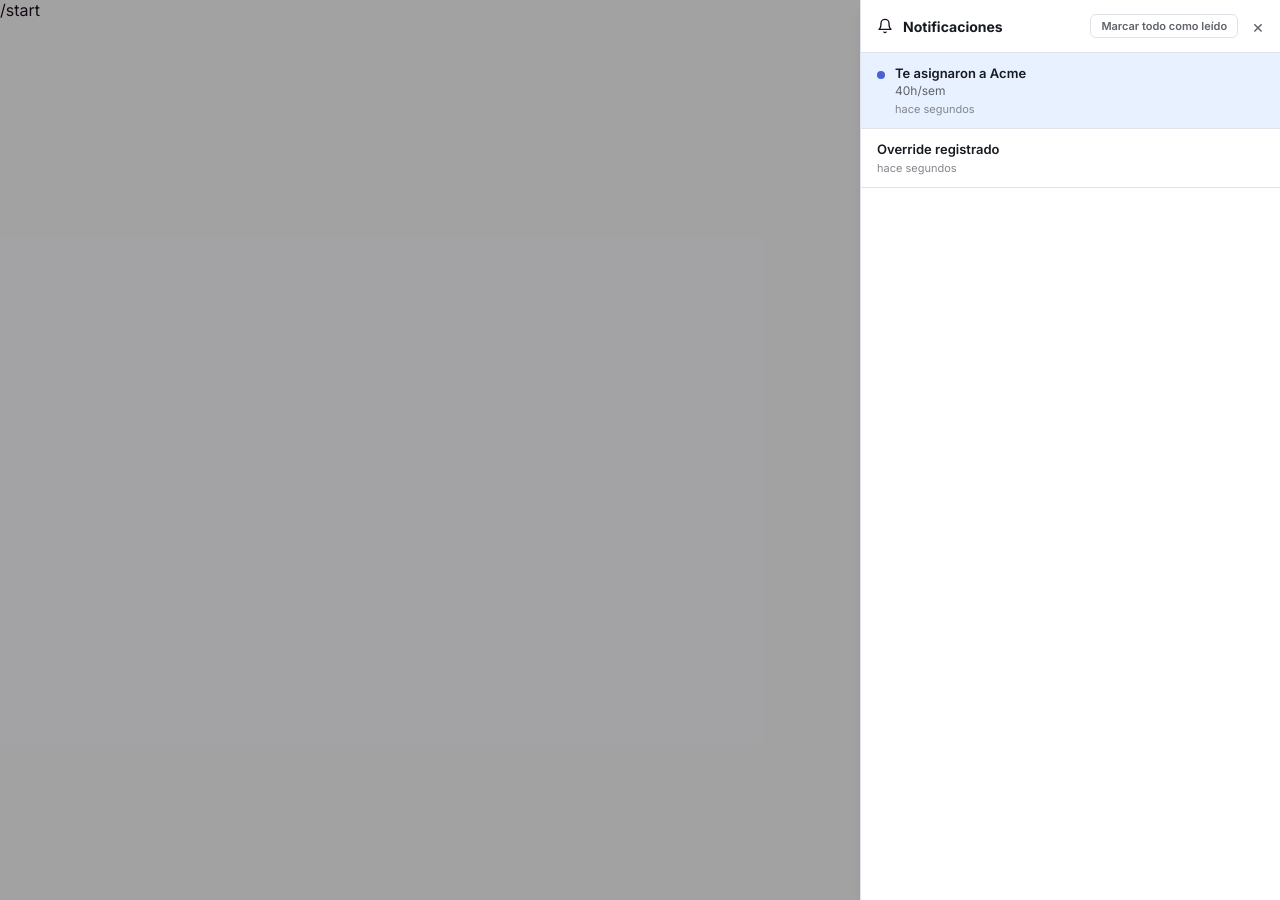
Test: NotificationsDrawer › mark-all-as-read posts bulk endpoint and zeroes unread count
The image size is (1280, 900).
What coordinates should you click on to do the following:
click the button with test id "notif-mark-all"
I would click on:
 (1164, 26)
Its box is [1090,14,1238,38].
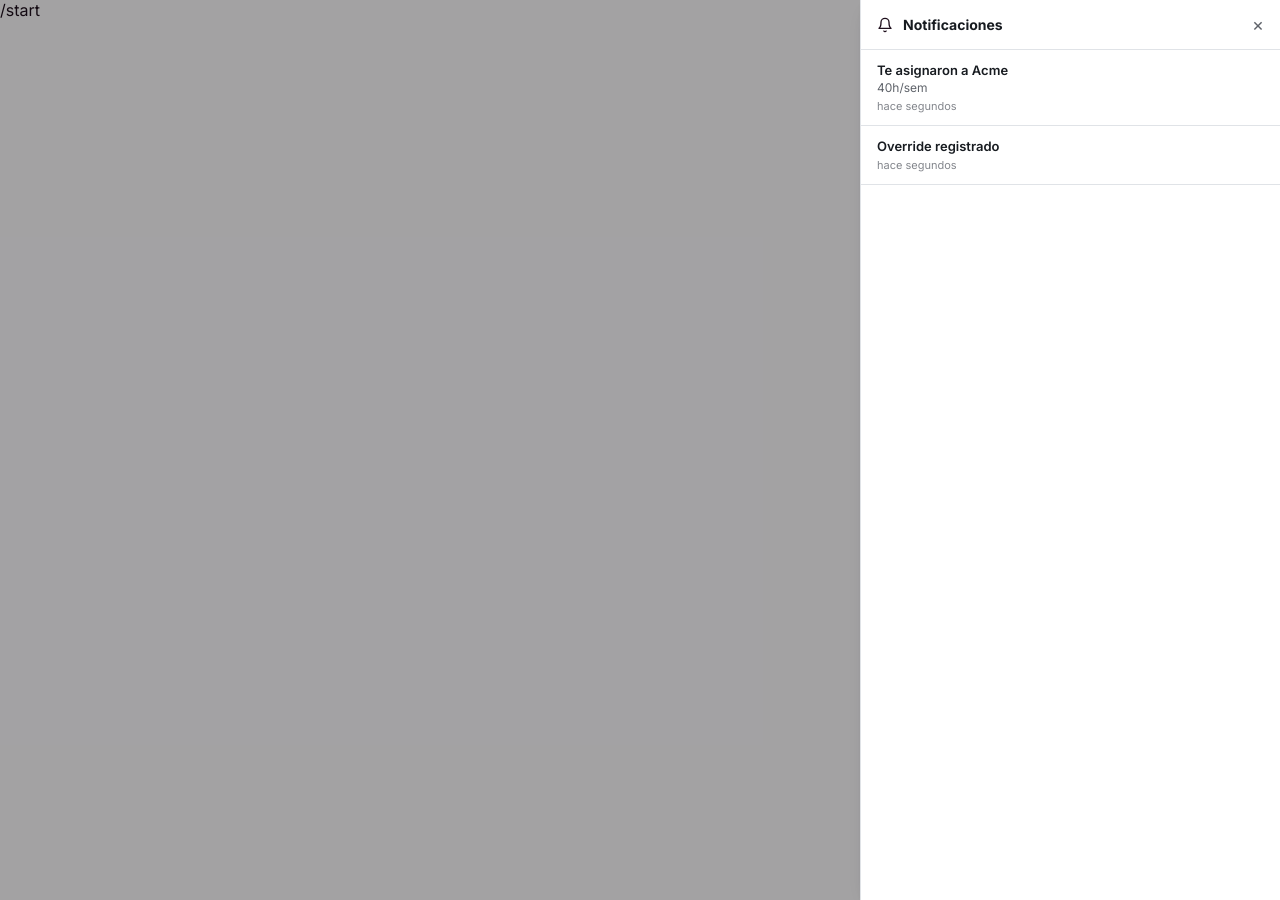
Expected: the button with test id "notif-mark-all" is gone
